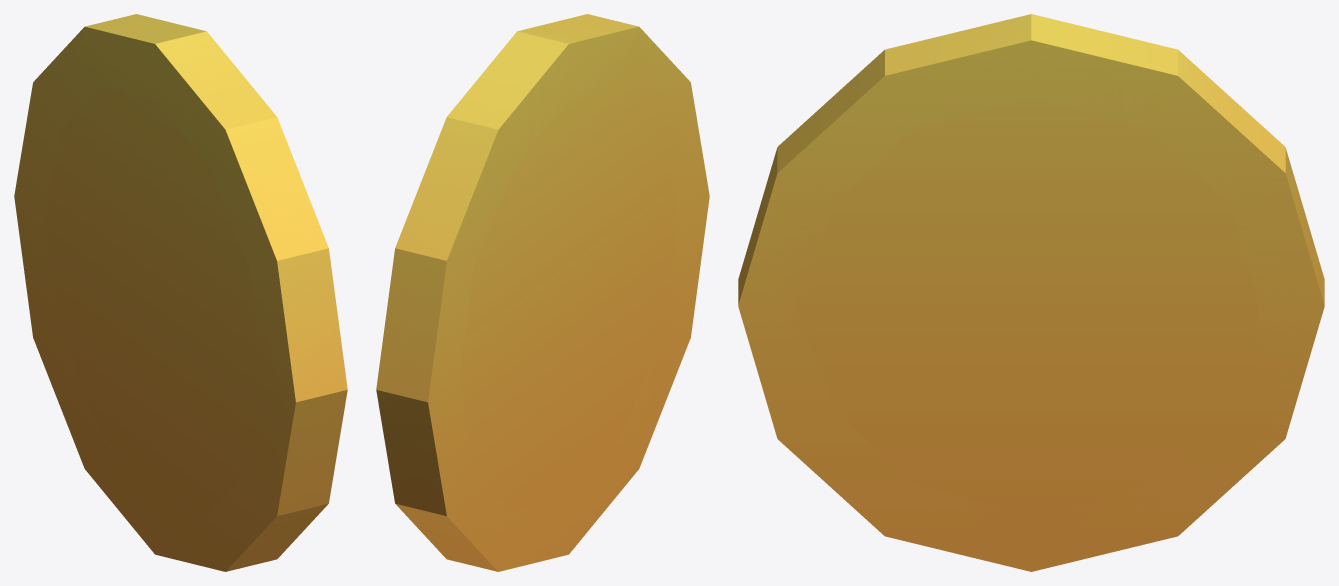
File: Coins.fbx
The picture shows the model from 3 angles, left to right: view 1: azimuth 30°, elevation 25°; view 2: azimuth 150°, elevation 25°; view 3: azimuth 270°, elevation 25°; orthographic projection. The views are drawn at different scales.
Visible parts, largest first — view 1: Coin, BigCoin; view 2: Coin, BigCoin; view 3: Coin, BigCoin.
Part boxes in pixels (box(x1,y1,x2,y2)): Coin: box(18, 27, 347, 555); BigCoin: box(14, 14, 346, 571); Coin: box(377, 14, 709, 568); BigCoin: box(376, 26, 709, 571); Coin: box(738, 14, 1324, 571); BigCoin: box(738, 14, 1324, 571).
Size of the model in its own units: 4.31 by 40.6 by 40.6.
